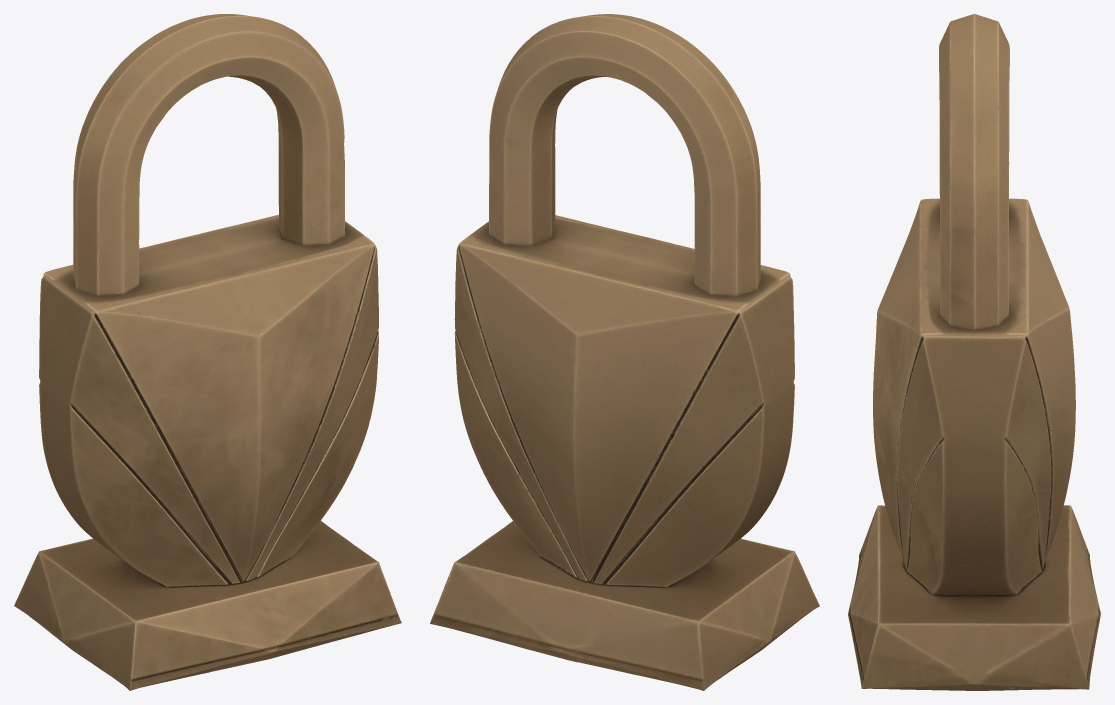
The model's file is fig-privat.glb.
3 renders of one model, left to right at view 1: azimuth 30°, elevation 25°; view 2: azimuth 150°, elevation 25°; view 3: azimuth 270°, elevation 25°, orthographic.
Parts seen in each view (by area): view 1: Mesh_0; view 2: Mesh_0; view 3: Mesh_0.
Boxes of the visible parts, bbox=[...] form: Mesh_0: bbox=[14, 14, 401, 690]; Mesh_0: bbox=[430, 14, 819, 690]; Mesh_0: bbox=[848, 14, 1100, 690].
Bounding box in the file's own units: 1.03 × 1.9 × 0.73.
Materials: 1 (1 with a texture image).
